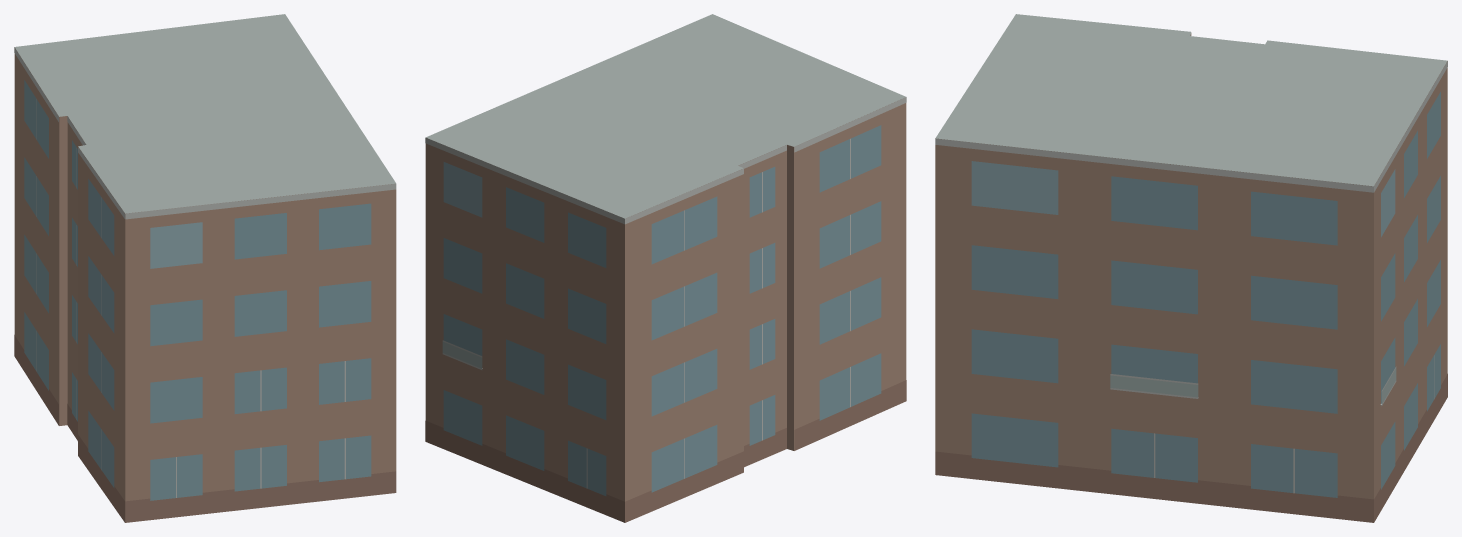
Rendered from survey-upis-32828594.glb.
The picture shows the model from 3 angles, left to right: view 1: azimuth 30°, elevation 25°; view 2: azimuth 150°, elevation 25°; view 3: azimuth 270°, elevation 25°; orthographic projection. The views are drawn at different scales.
Visible parts, largest first — view 1: survey-upis-32828594.tmp; view 2: survey-upis-32828594.tmp; view 3: survey-upis-32828594.tmp.
Part boxes in pixels (left/top/right/bottom): survey-upis-32828594.tmp: left=14, top=14, right=396, bottom=522; survey-upis-32828594.tmp: left=425, top=14, right=906, bottom=522; survey-upis-32828594.tmp: left=935, top=14, right=1447, bottom=522.
Size of the model in its own units: 14.06 by 12.8 by 17.67.
